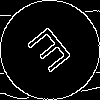E: (25, 25, 80, 82)
